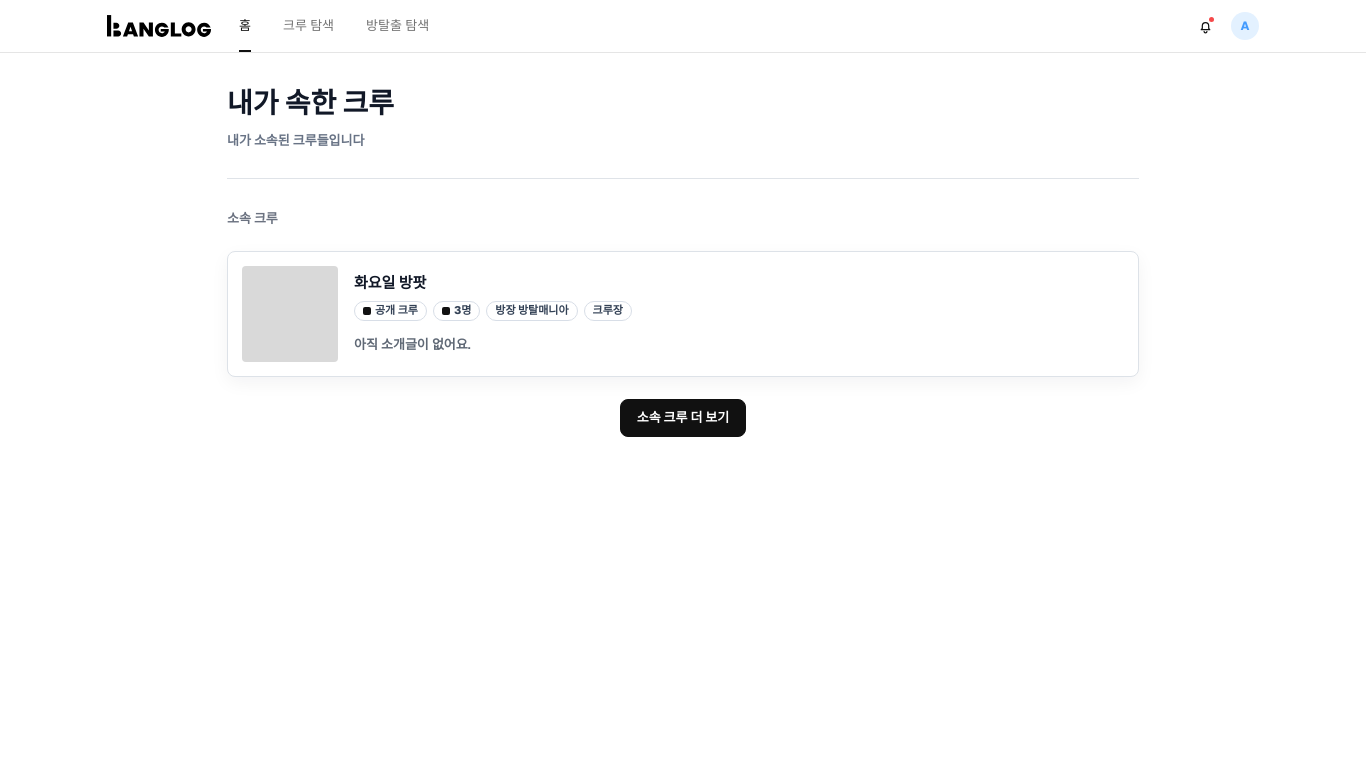
Scenario: ProfileCrewsPage › loads more active crews without duplicating existing cards
Click the button "소속 크루 더 보기". click: click(683, 418)
box: [620,399,746,437]
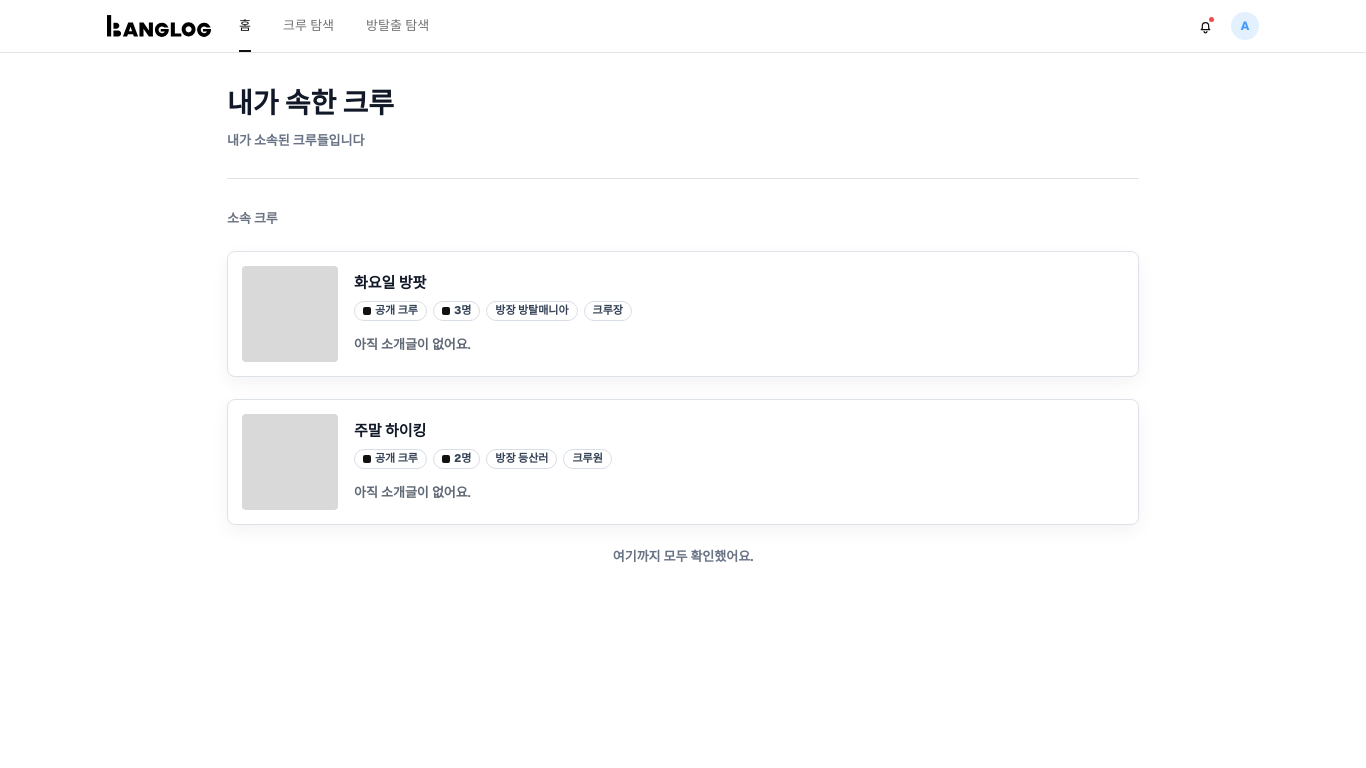
Result: the number of links "화요일 방팟 공개 크루 3명 방장 방탈매니아 크루장 아직 소개글이 없어요." is 1 at [227,251,1139,377]
